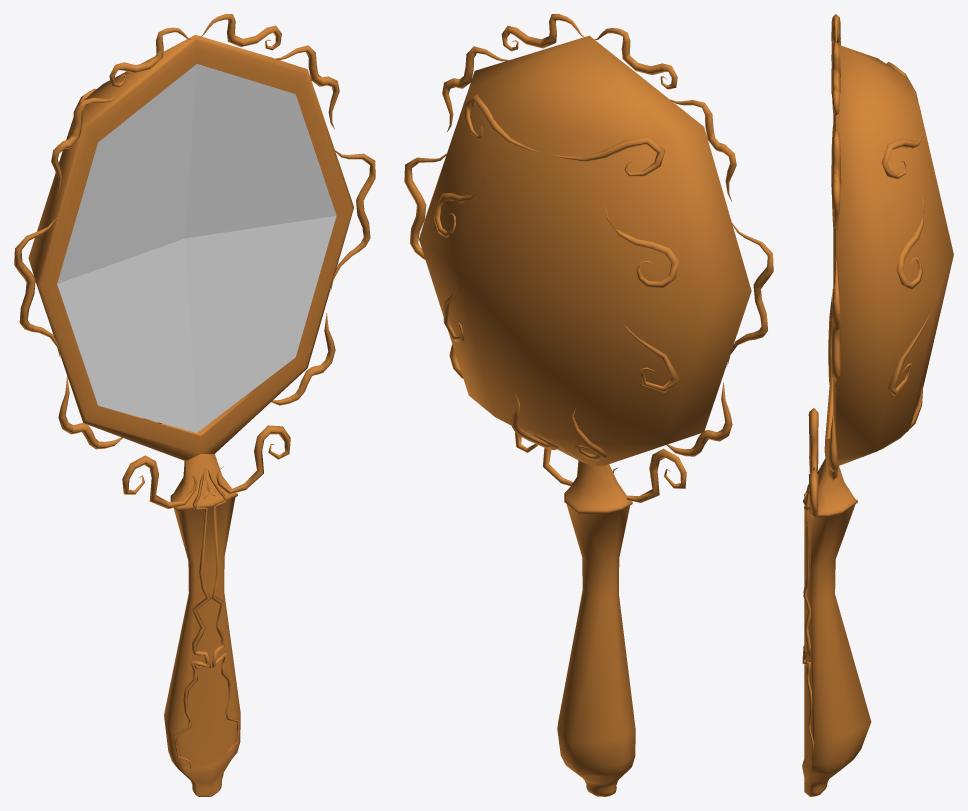
Rendered from Espejo.glb.
3 views of the same model, side by side, from view 1: azimuth 30°, elevation 25°; view 2: azimuth 150°, elevation 25°; view 3: azimuth 270°, elevation 25° (orthographic). The views are drawn at different scales.
Parts seen in each view (by area): view 1: Cube, Sphere; view 2: Sphere; view 3: Sphere.
Part boxes in pixels (x1=…): Cube: x1=57, y1=64, x2=336, y2=432; Sphere: x1=14, y1=14, x2=375, y2=796; Sphere: x1=404, y1=14, x2=773, y2=796; Sphere: x1=802, y1=14, x2=953, y2=796.
Size of the model in its own units: 2.28 by 4.6 by 0.8309.
